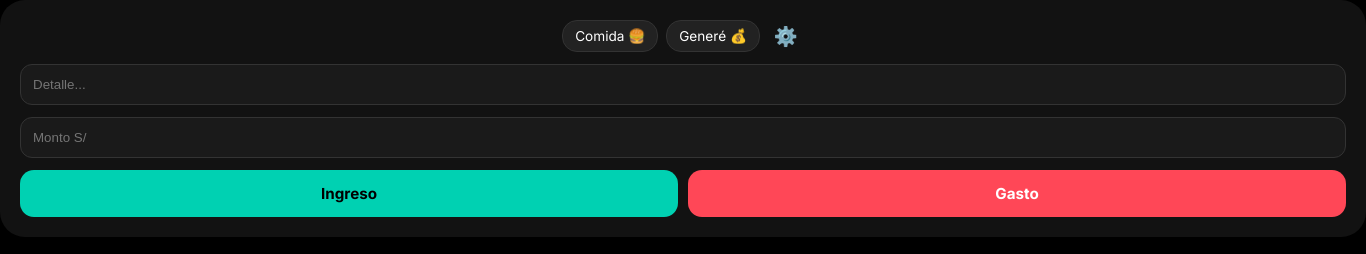
Test: TransactionForm › registra un ingreso y limpia los campos si la operación tiene éxito
Type "Venta" into the field with placeholder "Detalle..." at (683, 84), box x1=20 y1=64 x2=1346 y2=105
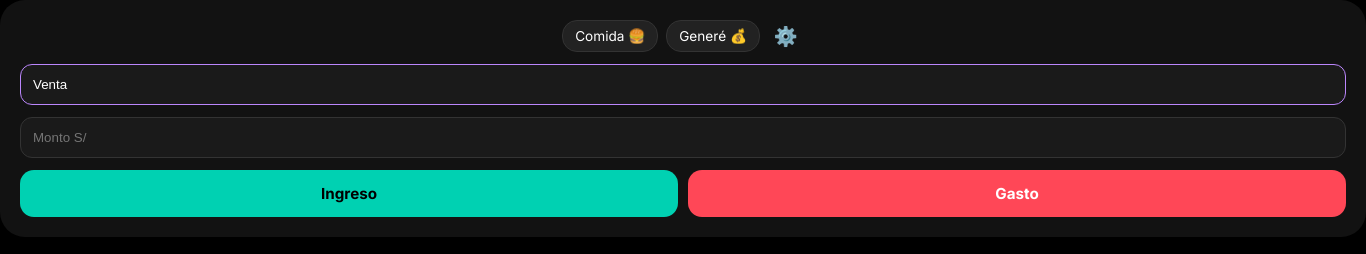
Type "50" into the number field with placeholder "Monto S/" at (683, 138), box x1=20 y1=117 x2=1346 y2=158
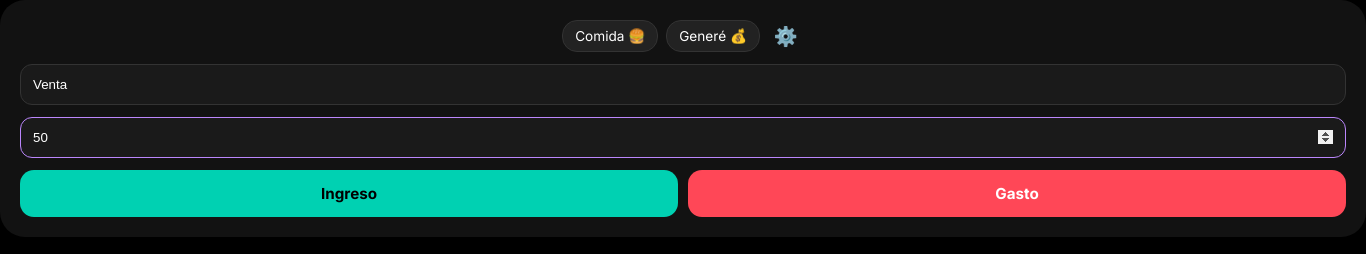
Click the button "Ingreso" at (349, 194), box x1=20 y1=170 x2=678 y2=217
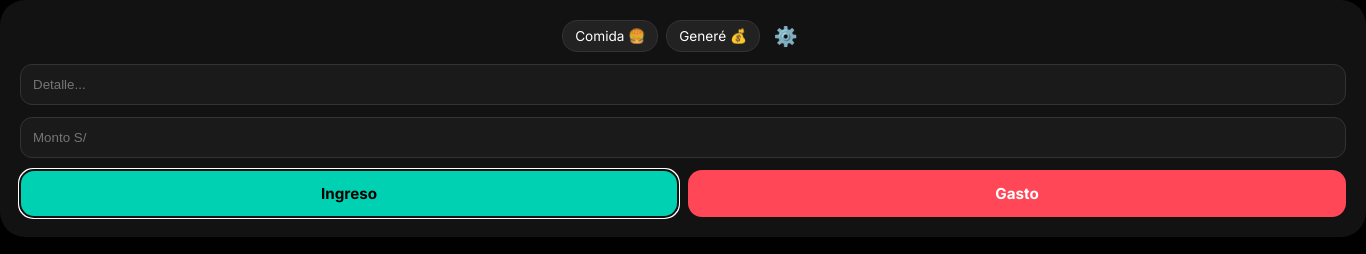
Now the field with placeholder "Detalle..." is empty, box x1=20 y1=64 x2=1346 y2=105
Now the number field with placeholder "Monto S/" is not empty, box x1=20 y1=117 x2=1346 y2=158
